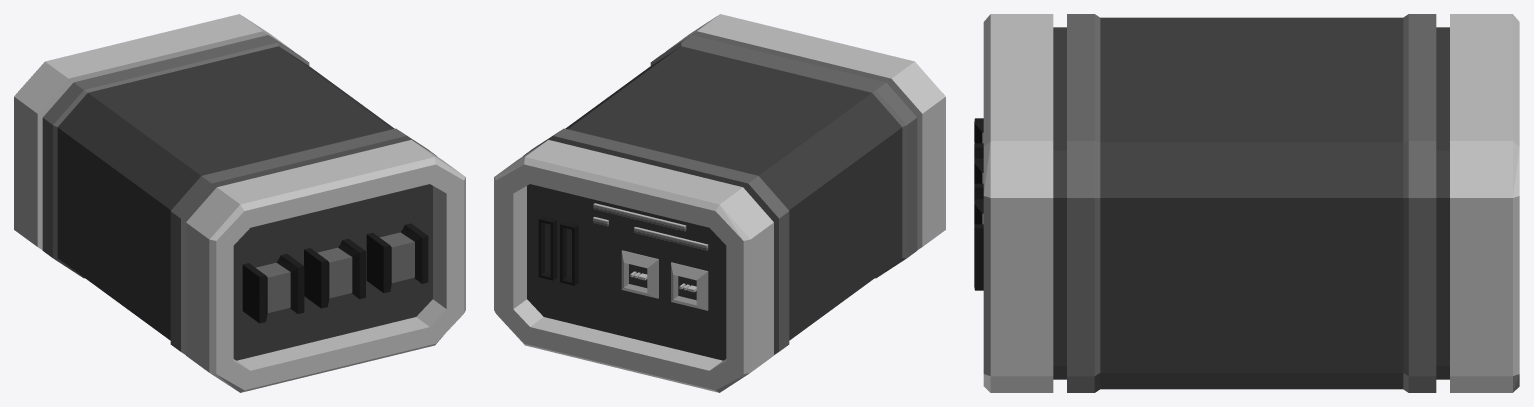
Rendered from generator_B.FBX.
3 views of the same model, side by side, from view 1: azimuth 30°, elevation 25°; view 2: azimuth 150°, elevation 25°; view 3: azimuth 270°, elevation 25° (orthographic). The views are drawn at different scales.
Parts seen in each view (by area): view 1: generator_B; view 2: generator_B, generator_B_glow; view 3: generator_B, generator_B_glow.
Part boxes in pixels (x1,y1,x2,y2): generator_B: [14, 14, 465, 392]; generator_B: [494, 14, 945, 392]; generator_B_glow: [593, 203, 708, 251]; generator_B: [974, 14, 1519, 392]; generator_B_glow: [1053, 27, 1449, 379].
Size of the model in its own units: 57.77 by 40.59 by 79.62.
